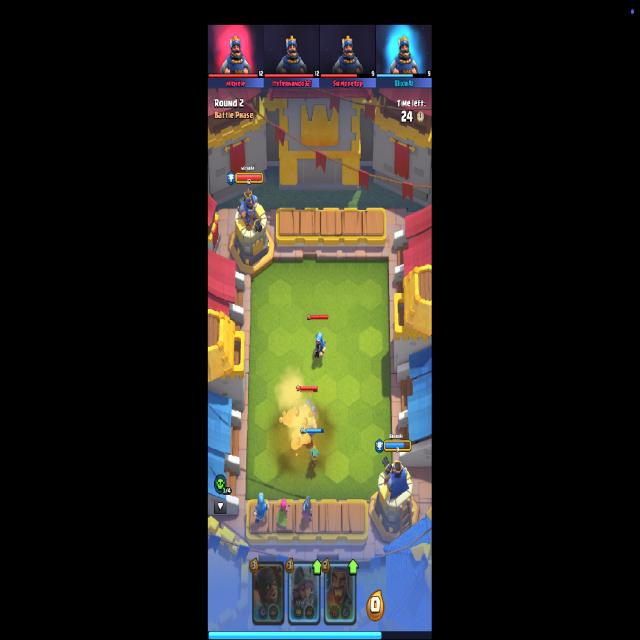archer: (275, 498, 291, 528)
card_executioner: (250, 558, 284, 626)
card_musketeer: (288, 560, 322, 626)
card_wizard: (324, 560, 357, 626)
dart_goblin: (310, 438, 319, 470)
electro_giant: (299, 398, 320, 438)
musketeer: (302, 497, 314, 525)
wizard: (252, 492, 269, 524), (313, 332, 327, 361)
